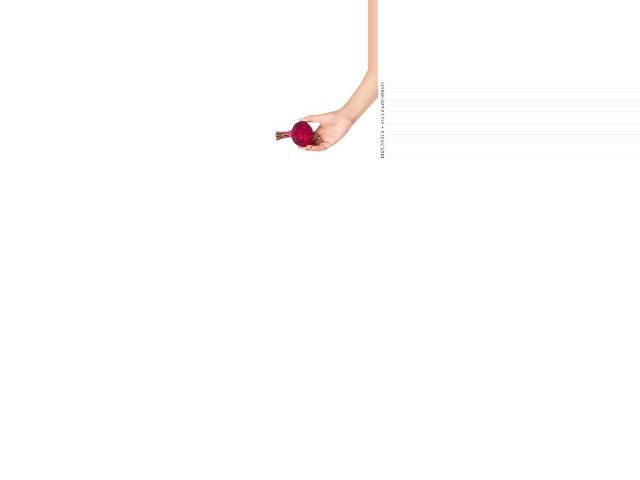beet: (275, 121, 314, 147)
